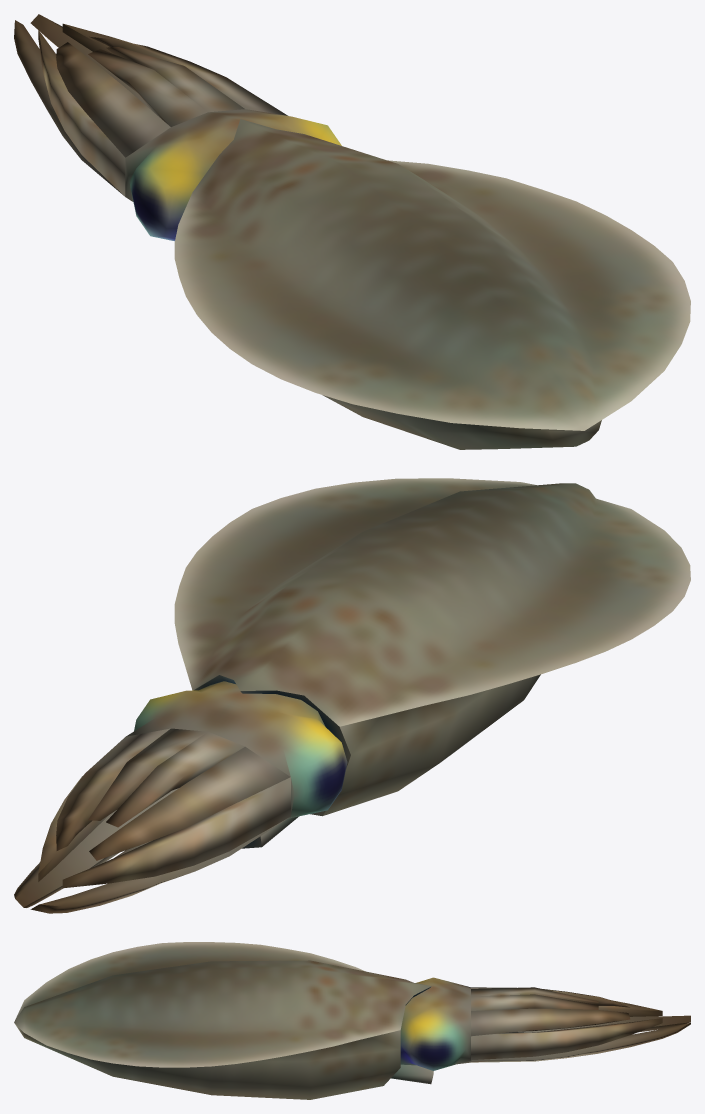
Rendered from squid.glb.
3 views of the same model, one above another, from view 1: azimuth 30°, elevation 25°; view 2: azimuth 150°, elevation 25°; view 3: azimuth 270°, elevation 25° (orthographic). The views are drawn at different scales.
Visible parts, largest first — view 1: FishIka__mIka; view 2: FishIka__mIka; view 3: FishIka__mIka.
Part boxes in pixels (bbox=[...]): FishIka__mIka: bbox=[14, 14, 690, 449]; FishIka__mIka: bbox=[14, 478, 690, 913]; FishIka__mIka: bbox=[14, 942, 690, 1099].
Size of the model in its own units: 2.93 by 1.33 by 6.68.
Materials: 1 (1 with a texture image).
